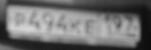license-plateSW: (6, 5, 141, 42)
